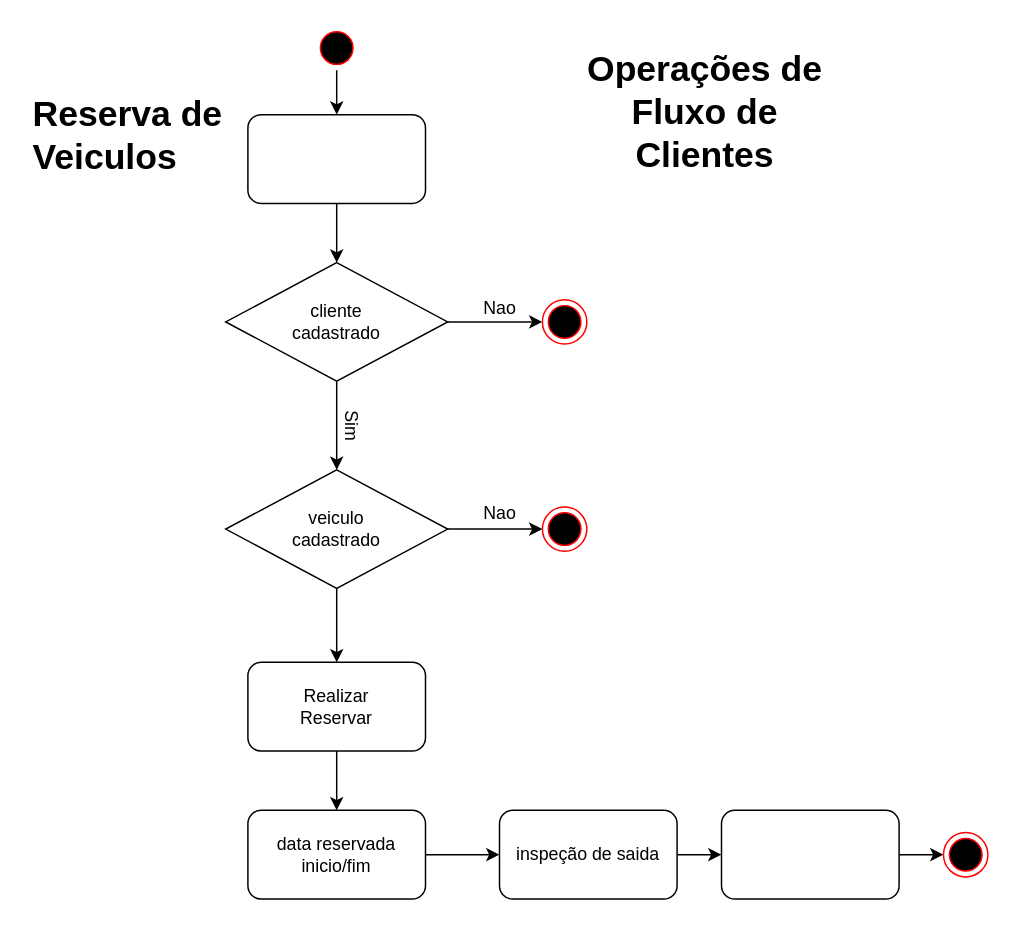
The diagram is 1014 pixels wide and 925 high, and some of its shapes have lost their labels. Each missing label, with the centre of its shape:
devolução data fim: the point at 809,854
Reservar veiculo: the point at 336,158
